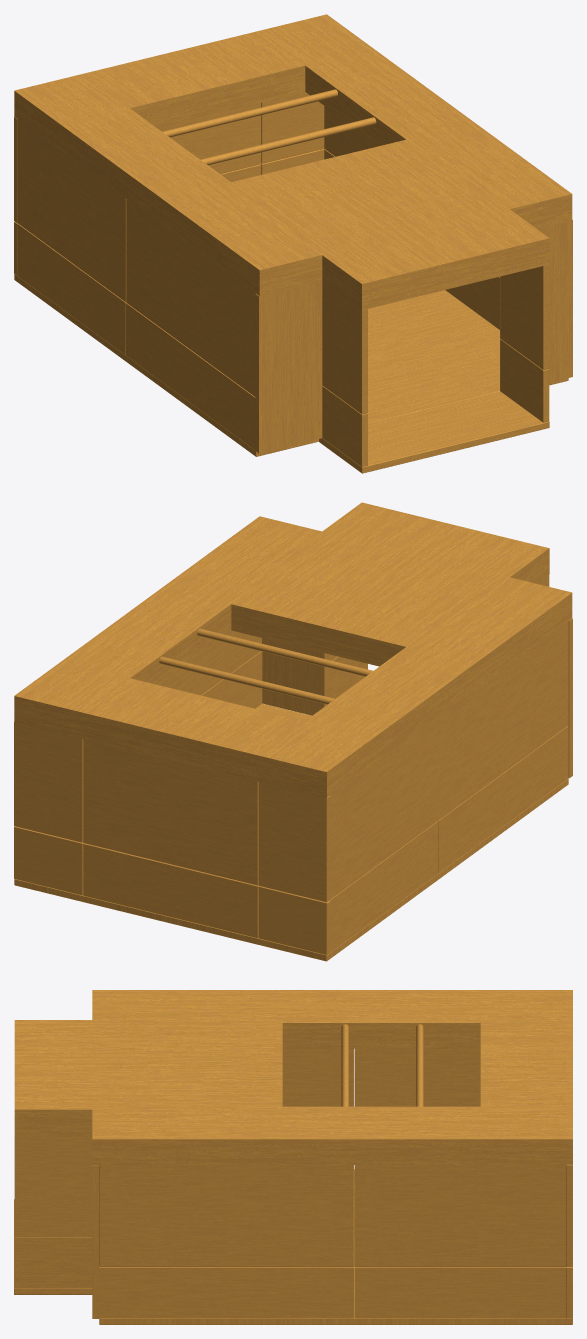
Rendered from wallace_room-transformed.glb.
The picture shows the model from 3 angles, top to bottom: view 1: azimuth 30°, elevation 25°; view 2: azimuth 150°, elevation 25°; view 3: azimuth 270°, elevation 25°; orthographic projection. The views are drawn at different scales.
Visible parts, largest first — view 1: SeatL; view 2: SeatL; view 3: SeatL.
Boxes of the visible parts, bbox=[...] form: SeatL: bbox=[14, 14, 572, 473]; SeatL: bbox=[14, 502, 572, 961]; SeatL: bbox=[14, 990, 572, 1324].
Size of the model in its own units: 7.65 by 4.41 by 12.05.
Materials: 1 (1 with a texture image).
